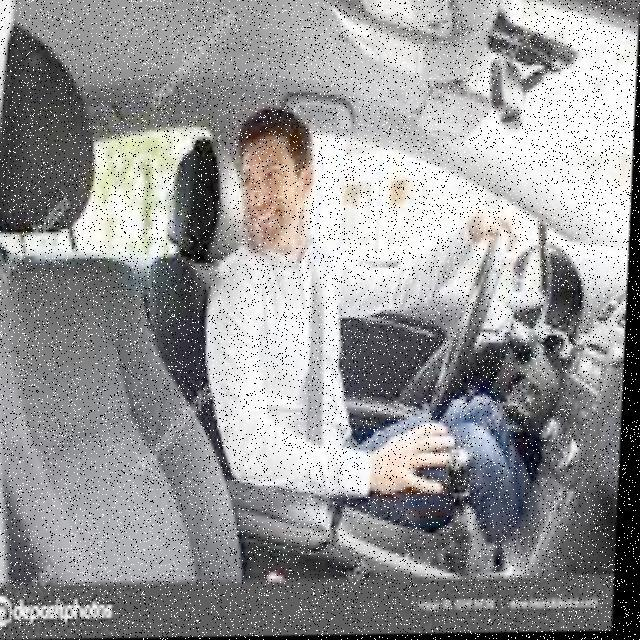seatbelt: (272, 234, 356, 479)
